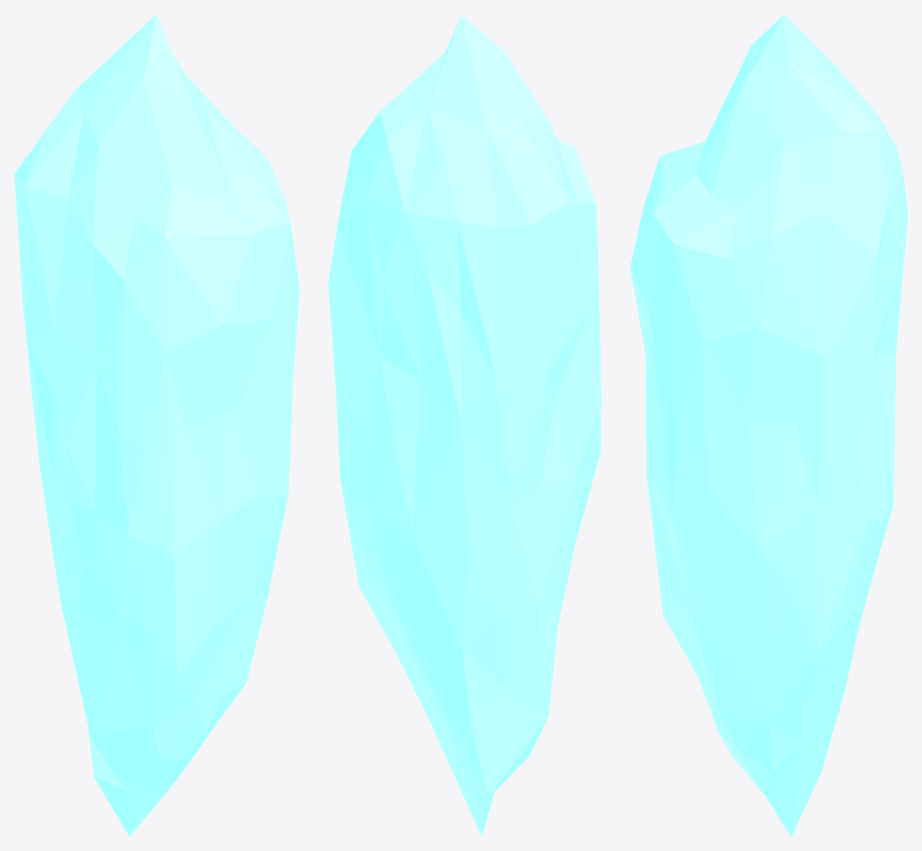
The model's file is SingleCrystal_upright.fbx.
3 renders of one model, left to right at view 1: azimuth 30°, elevation 25°; view 2: azimuth 150°, elevation 25°; view 3: azimuth 270°, elevation 25°, orthographic. The views are drawn at different scales.
Visible parts, largest first — view 1: Crystal; view 2: Crystal; view 3: Crystal.
Part boxes in pixels (x1=…): Crystal: x1=14, y1=14, x2=299, y2=836; Crystal: x1=328, y1=14, x2=601, y2=836; Crystal: x1=630, y1=14, x2=907, y2=836.
Size of the model in its own units: 55.32 by 183 by 55.29.
